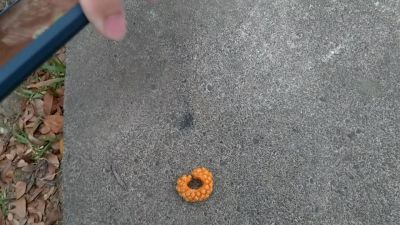eggs: (175, 165, 216, 205)
